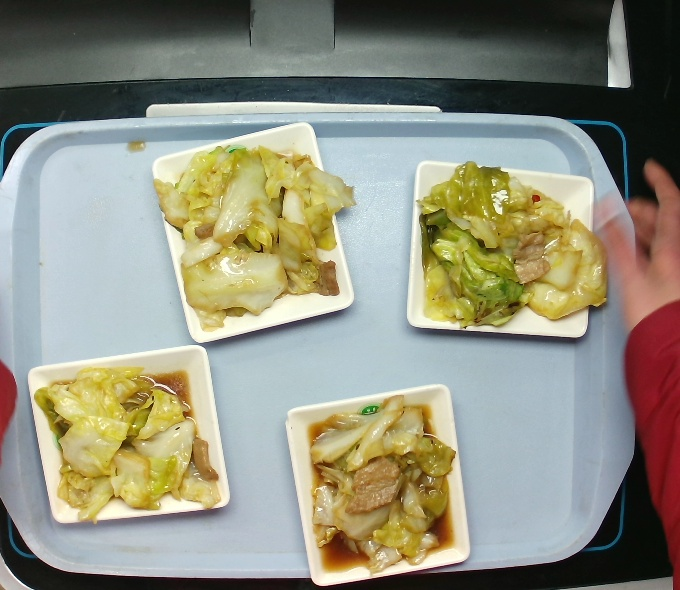wcq-JuanXinCaiChaoRou: (145, 136, 353, 328), (410, 160, 610, 336), (27, 363, 234, 523), (297, 388, 466, 576)
